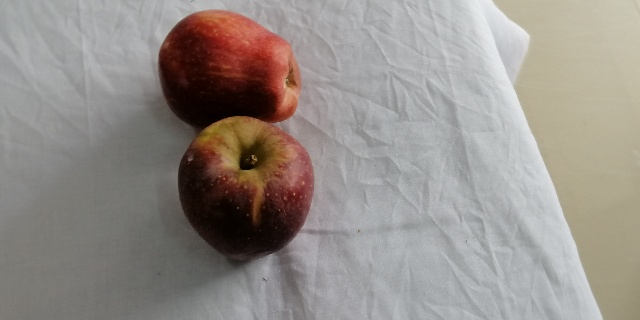apple_kashmir: (177, 116, 318, 262), (157, 11, 302, 125)
